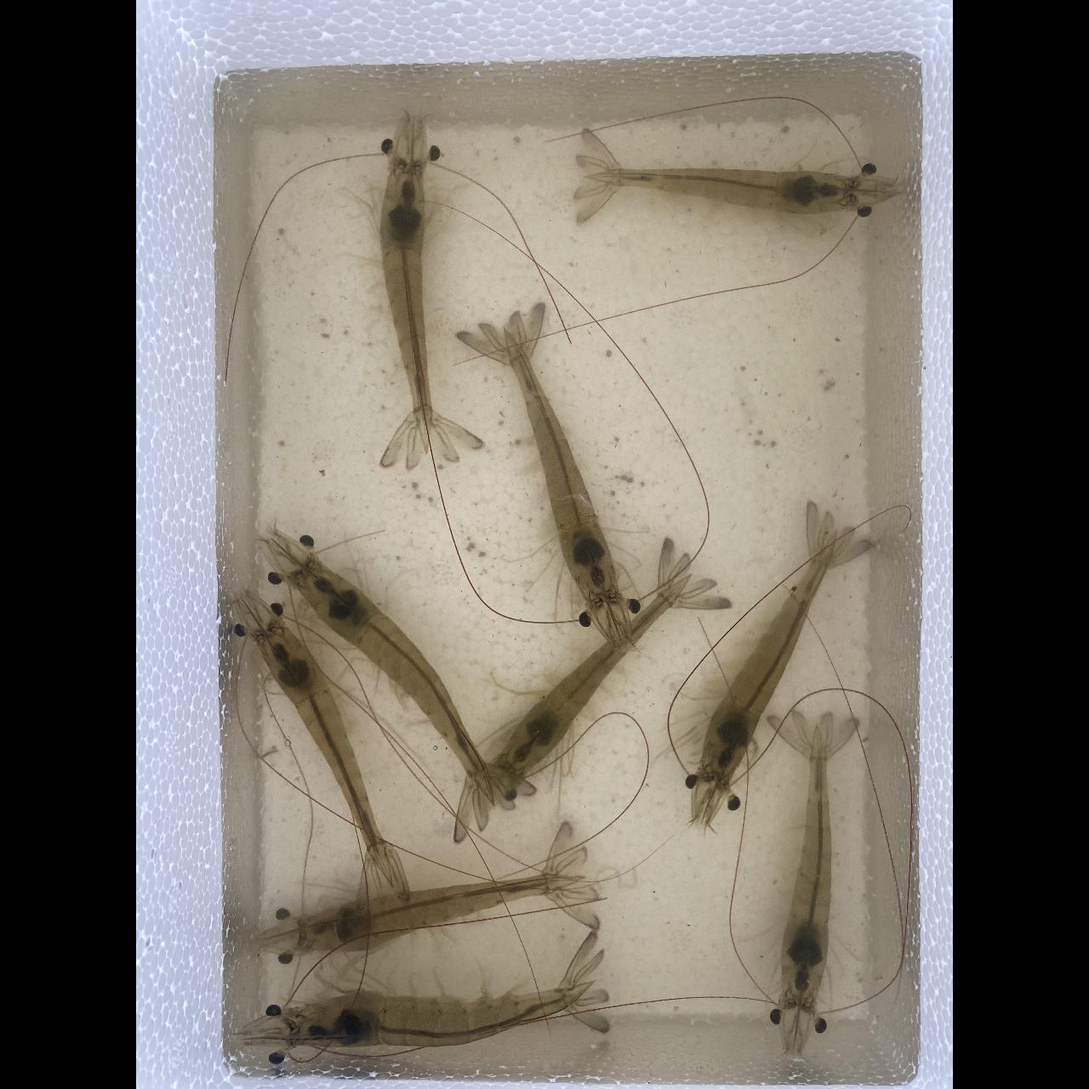top_shrimp: (298, 563, 493, 798), (497, 572, 687, 778), (701, 534, 835, 781), (259, 626, 383, 866), (507, 332, 616, 597), (299, 873, 580, 951), (291, 989, 587, 1048), (381, 163, 430, 446), (783, 728, 830, 1006), (592, 168, 851, 214)
